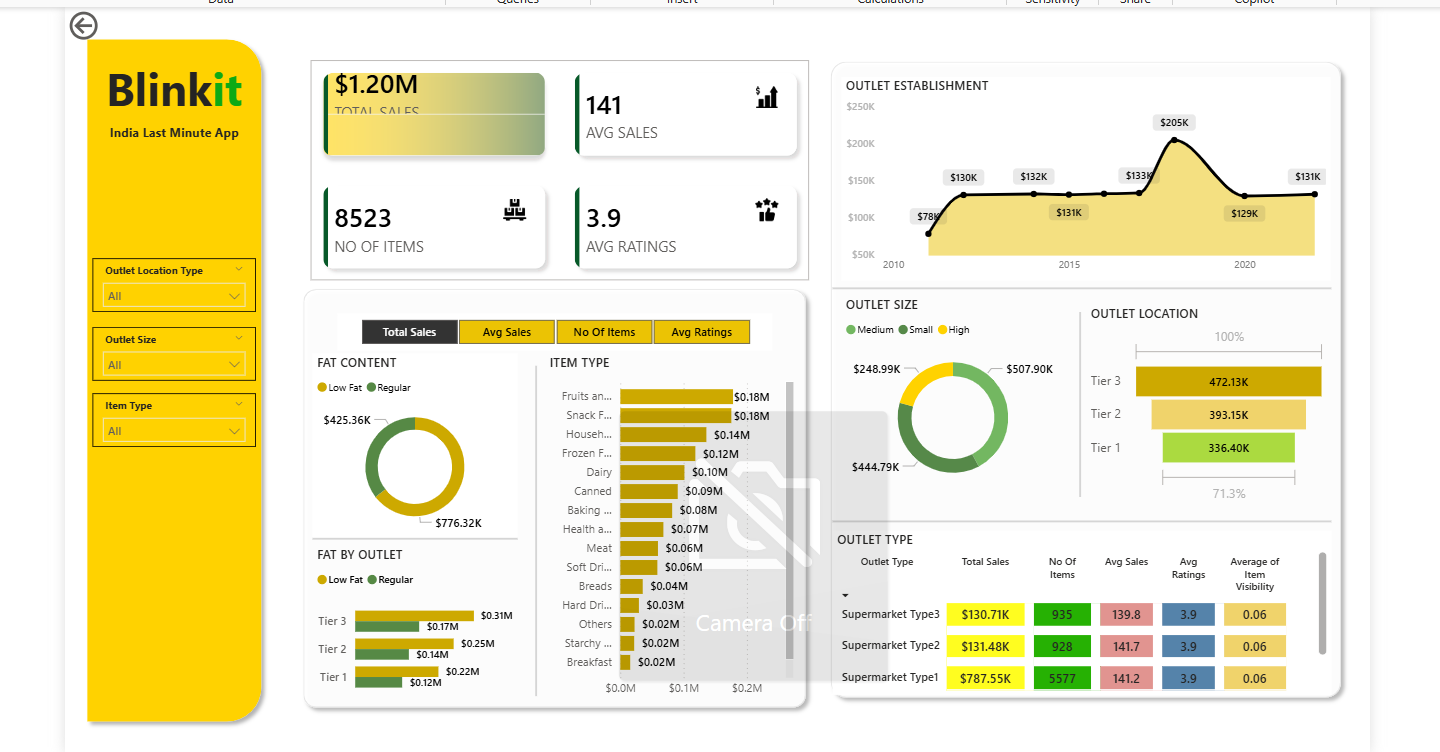

The page's visual inventory and layout, read from the dashboard file:
{"tool":"powerbi","page":{"name":"Page 1","canvas":[1400,800],"ordinal":0},"visuals":[{"type":"shape","box":[15,25,205,750],"z":0},{"type":"textbox","box":[30,50,175,91.7],"z":1000},{"type":"textbox","box":[35,120,165,41.7],"z":2000},{"type":"cardVisual","fields":{"Data":["BlinkIT Grocery Data.Total Sales","BlinkIT Grocery Data.Avg Sales","BlinkIT Grocery Data.No Of Items","BlinkIT Grocery Data.Avg Ratings"]},"box":[241.4,40.5,570,270],"z":3000},{"type":"shape","box":[246.7,293.3,556.7,466.7],"z":4000},{"type":"donutChart","title":"FAT CONTENT","fields":{"Y":["BlinkIT Grocery Data.Total Sales"],"Category":["BlinkIT Grocery Data.Item Fat Content"]},"box":[265.7,371.4,220,198.6],"z":5000},{"type":"slicer","fields":{"Values":["Metrics.Metrics"]},"box":[292,328,466,40],"z":6000},{"type":"clusteredBarChart","title":"FAT BY OUTLET","fields":{"Y":["BlinkIT Grocery Data.Total Sales"],"Category":["BlinkIT Grocery Data.Outlet Location Type"],"Series":["BlinkIT Grocery Data.Item Fat Content"]},"box":[265.5,578.2,220,170],"z":7000},{"type":"shape","box":[265.7,561.4,220,17.1],"z":8000},{"type":"shape","box":[495.7,384.3,18.6,354.3],"z":9000},{"type":"barChart","title":"ITEM TYPE","fields":{"Y":["BlinkIT Grocery Data.Total Sales"],"Category":["BlinkIT Grocery Data.Item Type"]},"box":[514.3,371.4,271.4,377.1],"z":10000},{"type":"shape","box":[812.5,50,565,700],"z":11000},{"type":"lineChart","title":"OUTLET ESTABLISHMENT","fields":{"Category":["BlinkIT Grocery Data.Outlet Establishment Year"],"Y":["BlinkIT Grocery Data.Total Sales"]},"box":[832.5,75,525,218.8],"z":12000},{"type":"shape","box":[822.5,293.8,535,16.2],"z":13000},{"type":"donutChart","title":"OUTLET SIZE","fields":{"Y":["BlinkIT Grocery Data.Total Sales"],"Category":["BlinkIT Grocery Data.Outlet Size"]},"box":[832.5,310,240,216.2],"z":14000},{"type":"shape","box":[1081.2,327.5,13.8,198.8],"z":15000},{"type":"slicer","title":"OUTLET LOCATIONS","fields":{"Values":["BlinkIT Grocery Data.Outlet Location Type"]},"box":[30,270,175,57.5],"z":16000},{"type":"shape","box":[822.5,542.5,535,17.5],"z":17000},{"type":"pivotTable","title":"OUTLET TYPE","fields":{"Rows":["BlinkIT Grocery Data.Outlet Type"],"Values":["BlinkIT Grocery Data.Total Sales","BlinkIT Grocery Data.No Of Items","BlinkIT Grocery Data.Avg Sales","BlinkIT Grocery Data.Avg Ratings","Avg(BlinkIT Grocery Data.Item Visibility)"]},"box":[822.5,561.2,535,176.2],"z":18000},{"type":"actionButton","box":[0,0,100,40],"z":19000},{"type":"slicer","title":"OUTLET LOCATIONS","fields":{"Values":["BlinkIT Grocery Data.Outlet Size"]},"box":[30,342.5,175,57.5],"z":20000},{"type":"slicer","title":"OUTLET LOCATIONS","fields":{"Values":["BlinkIT Grocery Data.Item Type"]},"box":[30,413.8,175,57.5],"z":21000},{"type":"funnel","title":"OUTLET LOCATION","fields":{"Y":["Sum(BlinkIT Grocery Data.Sales)"],"Category":["BlinkIT Grocery Data.Outlet Location Type"]},"box":[1095,318.8,262.5,218.8],"z":22000}]}

Visuals, with their boxes on the page's 1400x800 design canvas (x1, y1, x2, y2). These are canvas units, not pixel positions in the 1440x752 screenshot, which may show the page scaled, cropped or inside an application window:
shape: 15, 25, 220, 775
textbox: 30, 50, 205, 142
textbox: 35, 120, 200, 162
cardVisual - BlinkIT Grocery Data.Total Sales x BlinkIT Grocery Data.Avg Sales: 241, 40, 811, 310
shape: 247, 293, 803, 760
"FAT CONTENT" donutChart: 266, 371, 486, 570
slicer - Metrics.Metrics: 292, 328, 758, 368
"FAT BY OUTLET" clusteredBarChart: 266, 578, 486, 748
shape: 266, 561, 486, 578
shape: 496, 384, 514, 739
"ITEM TYPE" barChart: 514, 371, 786, 748
shape: 812, 50, 1378, 750
"OUTLET ESTABLISHMENT" lineChart: 832, 75, 1358, 294
shape: 822, 294, 1358, 310
"OUTLET SIZE" donutChart: 832, 310, 1072, 526
shape: 1081, 328, 1095, 526
"OUTLET LOCATIONS" slicer: 30, 270, 205, 328
shape: 822, 542, 1358, 560
"OUTLET TYPE" pivotTable: 822, 561, 1358, 737
actionButton: 0, 0, 100, 40
"OUTLET LOCATIONS" slicer: 30, 342, 205, 400
"OUTLET LOCATIONS" slicer: 30, 414, 205, 471
"OUTLET LOCATION" funnel: 1095, 319, 1358, 538
